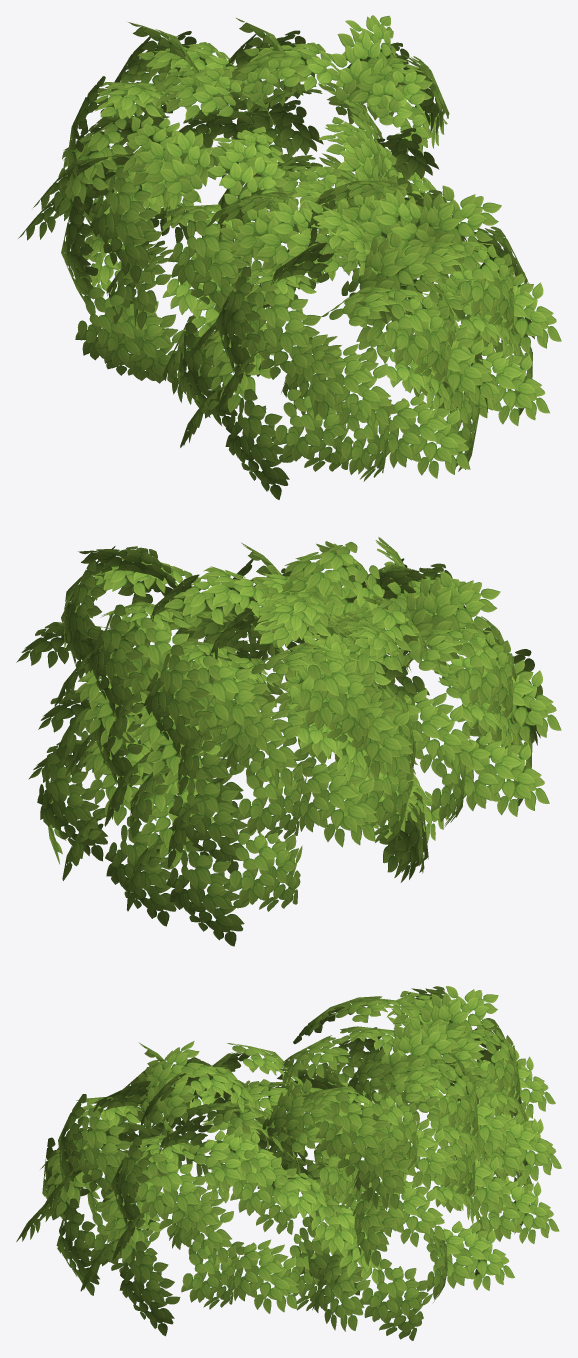
The model's file is Fanta Leaves #2 double sided.fbx.
3 renders of one model, top to bottom at view 1: azimuth 30°, elevation 25°; view 2: azimuth 150°, elevation 25°; view 3: azimuth 270°, elevation 25°, orthographic. The views are drawn at different scales.
Visible parts, largest first — view 1: Fanta Leaves #003; view 2: Fanta Leaves #003; view 3: Fanta Leaves #003.
Part boxes in pixels (left/top/right/bottom): Fanta Leaves #003: left=18, top=15, right=561, bottom=499; Fanta Leaves #003: left=16, top=537, right=561, bottom=946; Fanta Leaves #003: left=16, top=986, right=561, bottom=1340.
Size of the model in its own units: 294 by 218 by 390.
